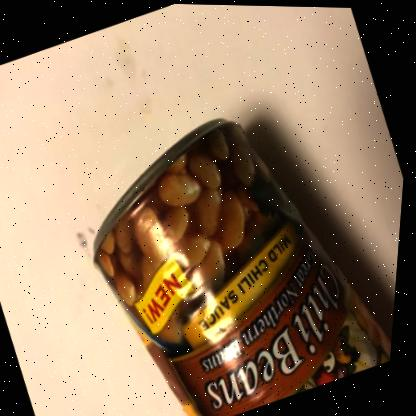Metal: (96, 116, 397, 416)
